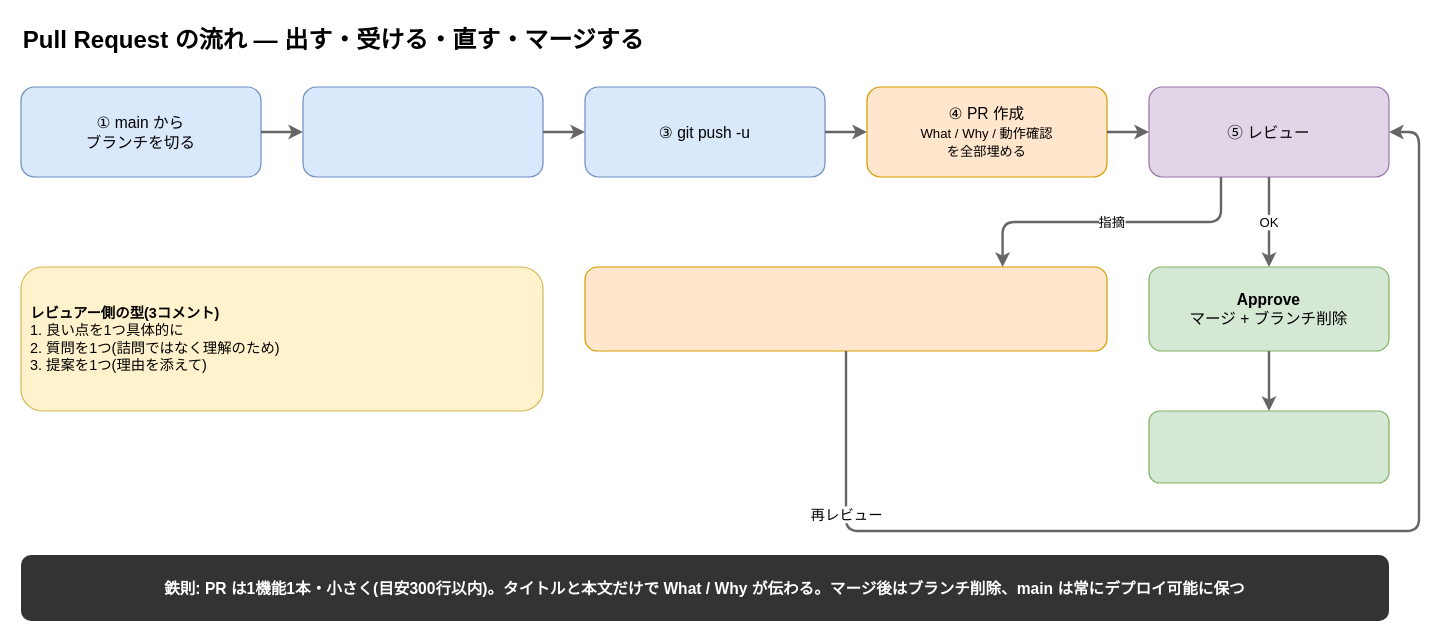
Some shapes in this 1451 by 641 pixel diagram are drawn without their labels. The box of each missing label's shape, as (x1, y1, x2, y2) in pixels:
git switch main → git pull で最新化: (1148, 410, 1389, 483)
② 実装 + セルフレビュー git diff を自分で読む: (302, 86, 543, 177)
指摘あり → 同じブランチに追いコミット → git push push するだけで PR に自動反映。「修正しました(コミットID)」と返信: (584, 266, 1107, 351)
